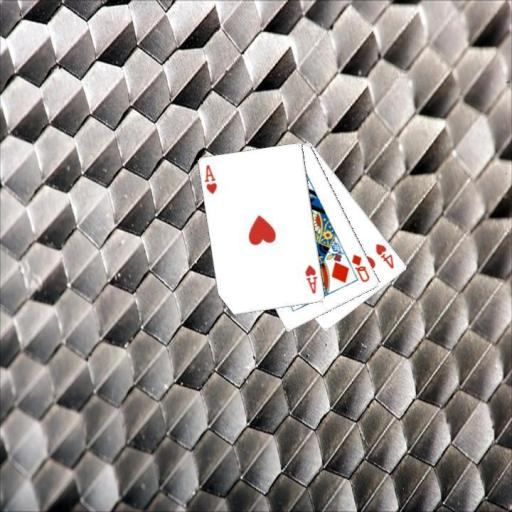4H: (373, 241, 396, 271)
AH: (303, 262, 320, 295), (202, 162, 218, 196)
QD: (349, 251, 372, 284)
